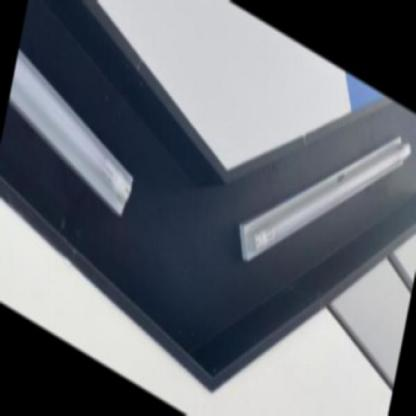light_off: (224, 43, 416, 355), (0, 1, 161, 249)
